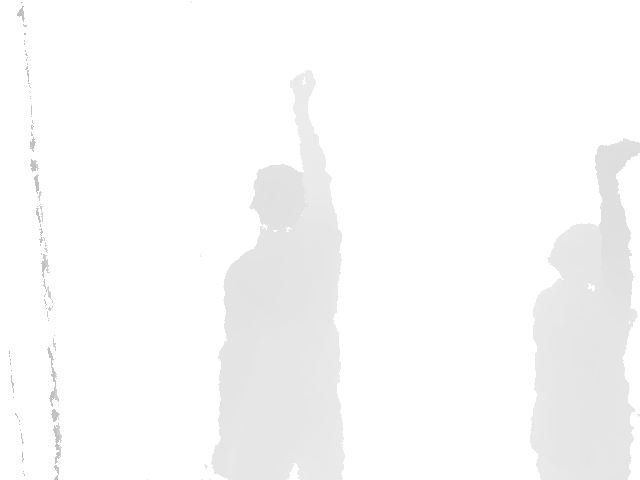hand: (594, 137, 640, 175), (289, 69, 317, 104)
head: (250, 163, 309, 235), (547, 222, 606, 285)
person: (209, 69, 347, 479), (529, 138, 640, 480)
